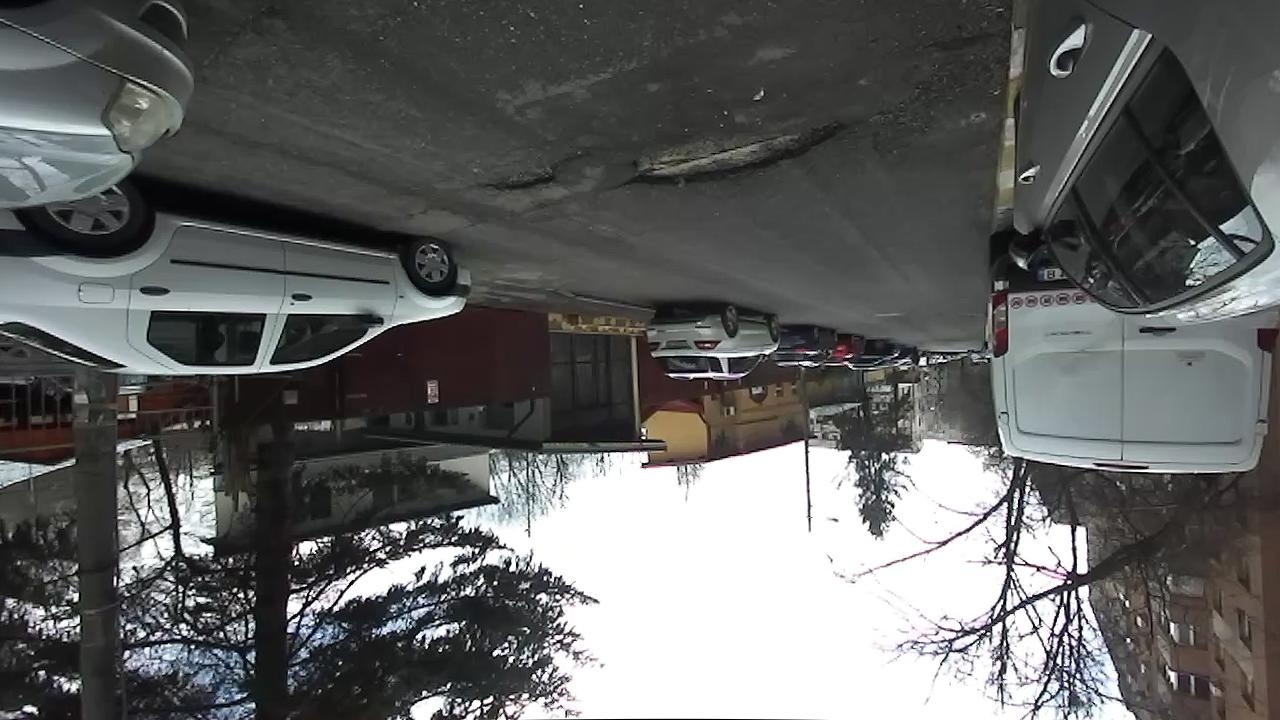pothole: (619, 113, 858, 191), (475, 144, 594, 196)
